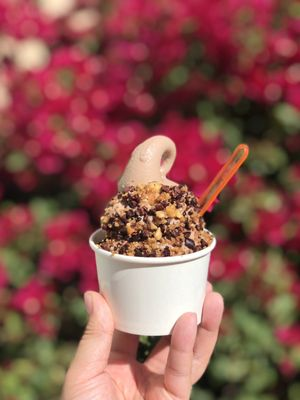pizza: (88, 183, 217, 338)
